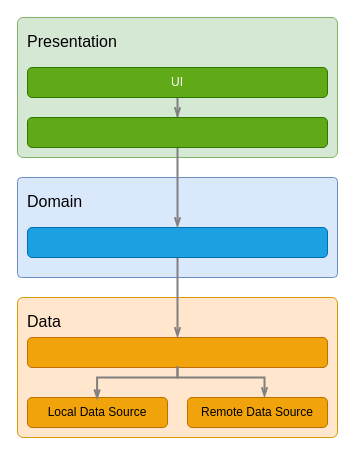
Image size: 355x455. Some labels were removed from this diagram. Each missing label, with the centre of its shape:
Repository: (x=177, y=352)
Use Case: (x=177, y=242)
ViewModel: (x=177, y=132)
